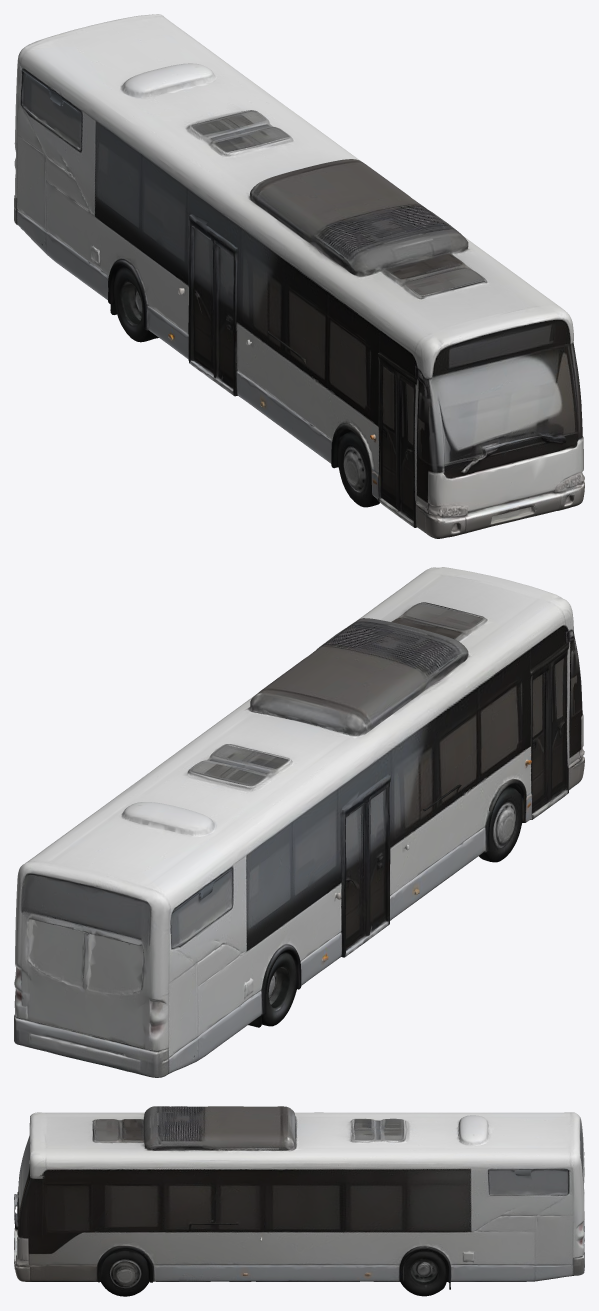
File: onibus_urbano.glb
3 renders of one model, top to bottom at view 1: azimuth 30°, elevation 25°; view 2: azimuth 150°, elevation 25°; view 3: azimuth 270°, elevation 25°, orthographic. The views are drawn at different scales.
Visible parts, largest first — view 1: tripo_node_8bc14d09-666a-4f28-b806-c81b836d2e1a; view 2: tripo_node_8bc14d09-666a-4f28-b806-c81b836d2e1a; view 3: tripo_node_8bc14d09-666a-4f28-b806-c81b836d2e1a.
Boxes of the visible parts, <box> form: tripo_node_8bc14d09-666a-4f28-b806-c81b836d2e1a: <box>14,14,584,538</box>; tripo_node_8bc14d09-666a-4f28-b806-c81b836d2e1a: <box>14,567,584,1077</box>; tripo_node_8bc14d09-666a-4f28-b806-c81b836d2e1a: <box>14,1106,584,1296</box>.
Bounding box in the file's own units: 2.6 × 3.57 × 12.
1 material, 1 textured.
